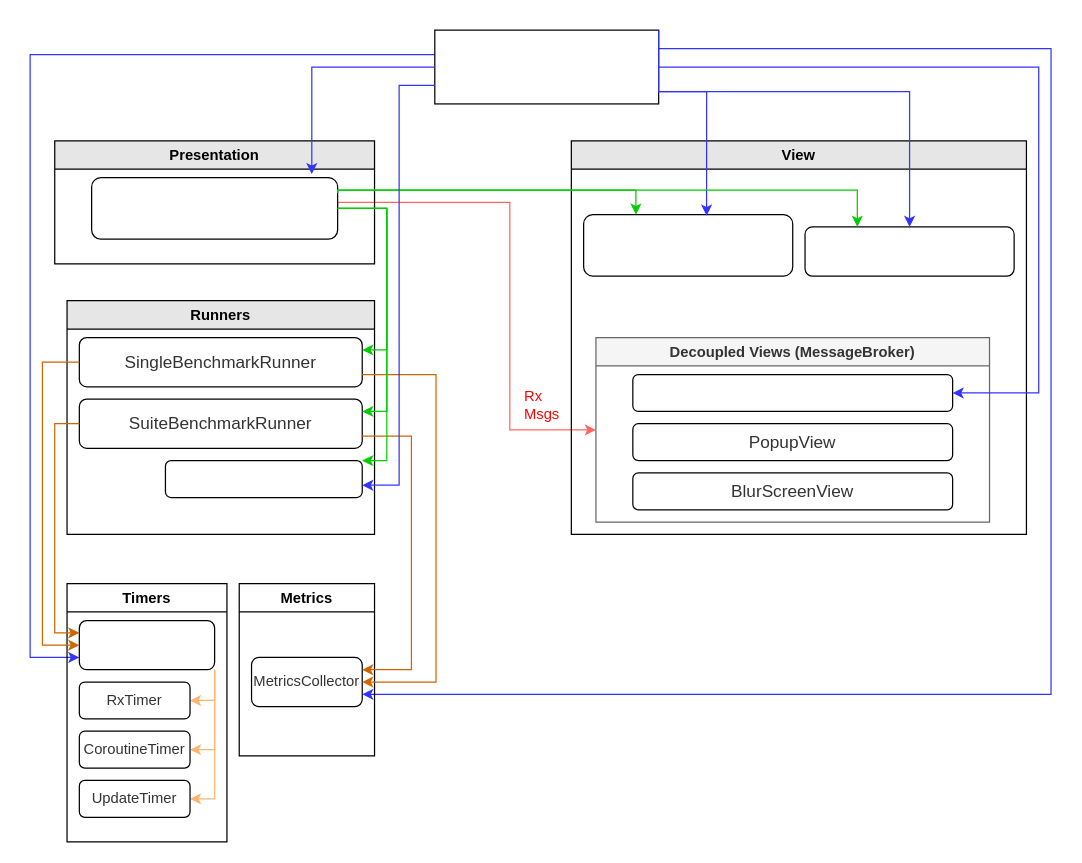
This 1082x863 diagram has some shape labels left out. Here are the shapes that lost their labels. From the top down, the centre of each, then its label:
At (x=546, y=66): "AppInstaller (Composition Root)".
At (x=214, y=208): "BenchmarkPresenter (Orchestrator)".
At (x=687, y=244): "BenchmarkView".
At (x=909, y=251): "ReporterView".
At (x=792, y=392): "ChartView".
At (x=263, y=478): "UpdateTimerRunner".
At (x=146, y=644): "ITimerFactory".
